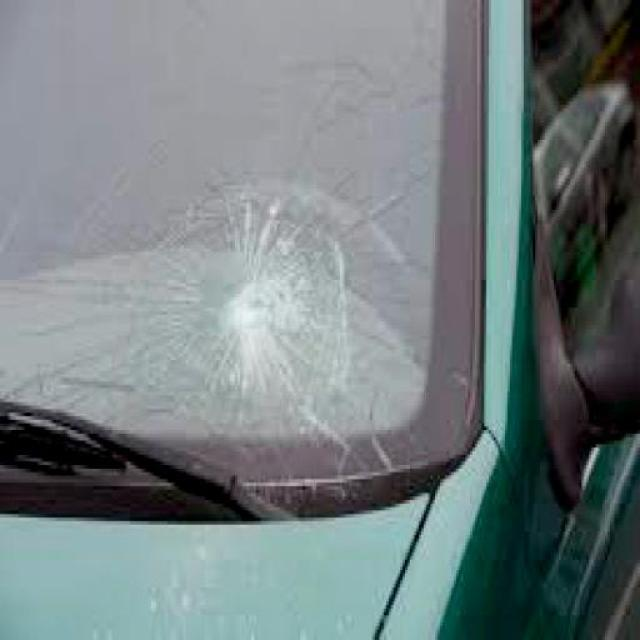car damage: (142, 196, 349, 402)
